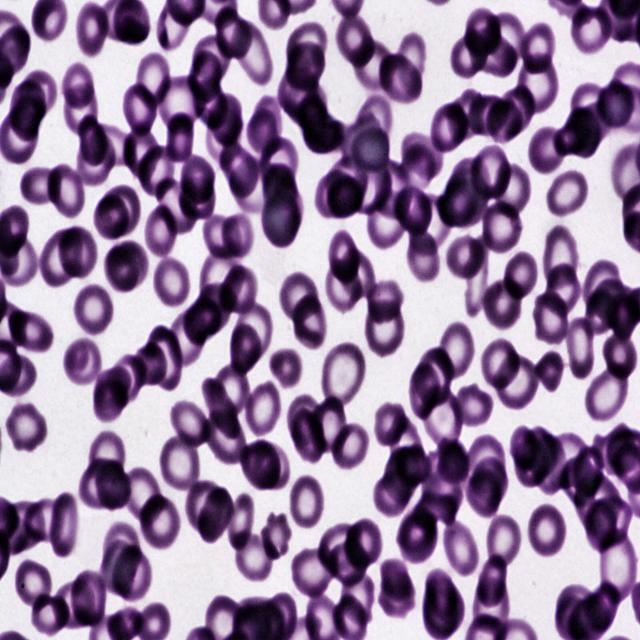red blood cell: (440, 162, 491, 228), (321, 341, 366, 414), (574, 471, 622, 533), (599, 528, 638, 604), (228, 20, 272, 87), (586, 359, 630, 424), (138, 490, 182, 554), (408, 193, 454, 254), (421, 450, 464, 514), (261, 185, 304, 248), (468, 144, 512, 205), (200, 247, 242, 310), (156, 78, 206, 130), (422, 384, 462, 449), (554, 105, 603, 158), (158, 434, 202, 493), (414, 345, 456, 406), (518, 53, 560, 113), (545, 432, 590, 488), (570, 0, 614, 57), (516, 427, 557, 488), (487, 160, 530, 218), (220, 140, 263, 198), (317, 523, 364, 576), (484, 11, 530, 65), (230, 158, 276, 212), (118, 466, 160, 525), (134, 51, 172, 116), (526, 500, 567, 560), (5, 400, 48, 457), (581, 260, 624, 317), (348, 162, 394, 215), (364, 301, 406, 359), (572, 83, 614, 141), (421, 584, 465, 639), (341, 111, 382, 170), (479, 337, 522, 393), (72, 281, 114, 338), (542, 225, 580, 288), (156, 176, 198, 233), (241, 380, 282, 438), (396, 508, 437, 566), (205, 408, 248, 463), (40, 228, 80, 287), (392, 180, 432, 239), (366, 190, 406, 249), (74, 132, 116, 188), (233, 304, 272, 364), (334, 10, 375, 67), (194, 282, 238, 335), (152, 253, 192, 311), (146, 326, 182, 390), (14, 557, 54, 614), (45, 161, 85, 218), (480, 200, 522, 254), (496, 354, 538, 408), (286, 472, 325, 530), (167, 310, 206, 368), (469, 31, 517, 78), (444, 232, 488, 283), (404, 226, 442, 285), (276, 65, 318, 118), (9, 80, 46, 140), (202, 377, 238, 438), (546, 168, 589, 219), (380, 53, 422, 105), (542, 264, 584, 316), (45, 494, 78, 560), (122, 81, 160, 138), (20, 160, 66, 207), (518, 21, 558, 75), (70, 570, 106, 630), (238, 438, 281, 488), (485, 514, 522, 572), (184, 478, 223, 533), (170, 398, 212, 449), (565, 313, 595, 384), (213, 361, 251, 417), (466, 233, 491, 318), (442, 521, 479, 578), (286, 20, 329, 69), (448, 88, 487, 142), (309, 398, 348, 452), (292, 548, 334, 598), (593, 426, 635, 476), (234, 532, 275, 583), (592, 494, 633, 545), (120, 124, 158, 179), (384, 446, 420, 504), (353, 38, 393, 90), (474, 578, 511, 634), (322, 259, 361, 312), (51, 580, 94, 628), (64, 336, 102, 390), (260, 136, 298, 190), (500, 249, 536, 305), (74, 2, 110, 58), (438, 322, 474, 378), (198, 488, 234, 544), (376, 160, 410, 219), (484, 278, 524, 328), (193, 32, 233, 82), (115, 548, 152, 602), (279, 272, 318, 323), (534, 433, 566, 495), (289, 408, 325, 463), (110, 352, 146, 407), (88, 429, 124, 484), (338, 248, 376, 300), (6, 310, 53, 352), (220, 265, 261, 313), (345, 515, 382, 568), (314, 169, 353, 219), (497, 84, 536, 134), (102, 540, 138, 594), (60, 227, 98, 278), (401, 134, 444, 179), (285, 43, 328, 88), (531, 294, 573, 340), (92, 126, 138, 168), (526, 124, 567, 171), (430, 102, 470, 150), (102, 184, 141, 233), (110, 239, 148, 289), (208, 94, 243, 148), (23, 497, 65, 542), (214, 8, 250, 60), (449, 31, 487, 80), (20, 68, 58, 117), (597, 79, 635, 128), (395, 35, 427, 93), (180, 152, 215, 205), (373, 468, 410, 518), (104, 522, 141, 572), (157, 1, 194, 51), (1, 236, 38, 286), (467, 93, 510, 136), (351, 126, 391, 172), (329, 540, 369, 586), (468, 434, 506, 482), (96, 461, 131, 513), (207, 109, 240, 164), (203, 210, 240, 259), (102, 187, 139, 236), (139, 148, 175, 198), (32, 592, 72, 637), (584, 582, 620, 632), (63, 86, 99, 136), (408, 362, 438, 422), (561, 456, 597, 506), (473, 558, 508, 609), (294, 295, 326, 350), (342, 572, 375, 625), (183, 298, 220, 345), (143, 205, 177, 256), (584, 498, 616, 552), (454, 382, 495, 424), (81, 461, 114, 513), (187, 51, 222, 100), (473, 457, 508, 506), (486, 100, 524, 145), (304, 111, 342, 156), (178, 177, 216, 222), (378, 573, 415, 619), (354, 93, 391, 139), (286, 394, 320, 444), (93, 366, 133, 408), (465, 470, 500, 518), (62, 59, 96, 108), (263, 162, 297, 211), (93, 194, 130, 239), (103, 247, 139, 293), (232, 323, 262, 378), (333, 423, 368, 470), (583, 289, 617, 337), (603, 334, 639, 379), (255, 444, 291, 489), (465, 10, 500, 56), (326, 176, 364, 218), (77, 113, 107, 166), (437, 436, 470, 484), (366, 280, 402, 323), (401, 146, 436, 190), (246, 108, 278, 156), (165, 112, 194, 164), (375, 402, 409, 446), (95, 378, 128, 422), (426, 569, 456, 617), (222, 214, 254, 259), (533, 350, 564, 396), (229, 494, 254, 550), (261, 513, 292, 558), (132, 344, 166, 385), (329, 232, 358, 280), (271, 346, 304, 388), (380, 558, 412, 601), (398, 443, 430, 485), (509, 426, 538, 470)
